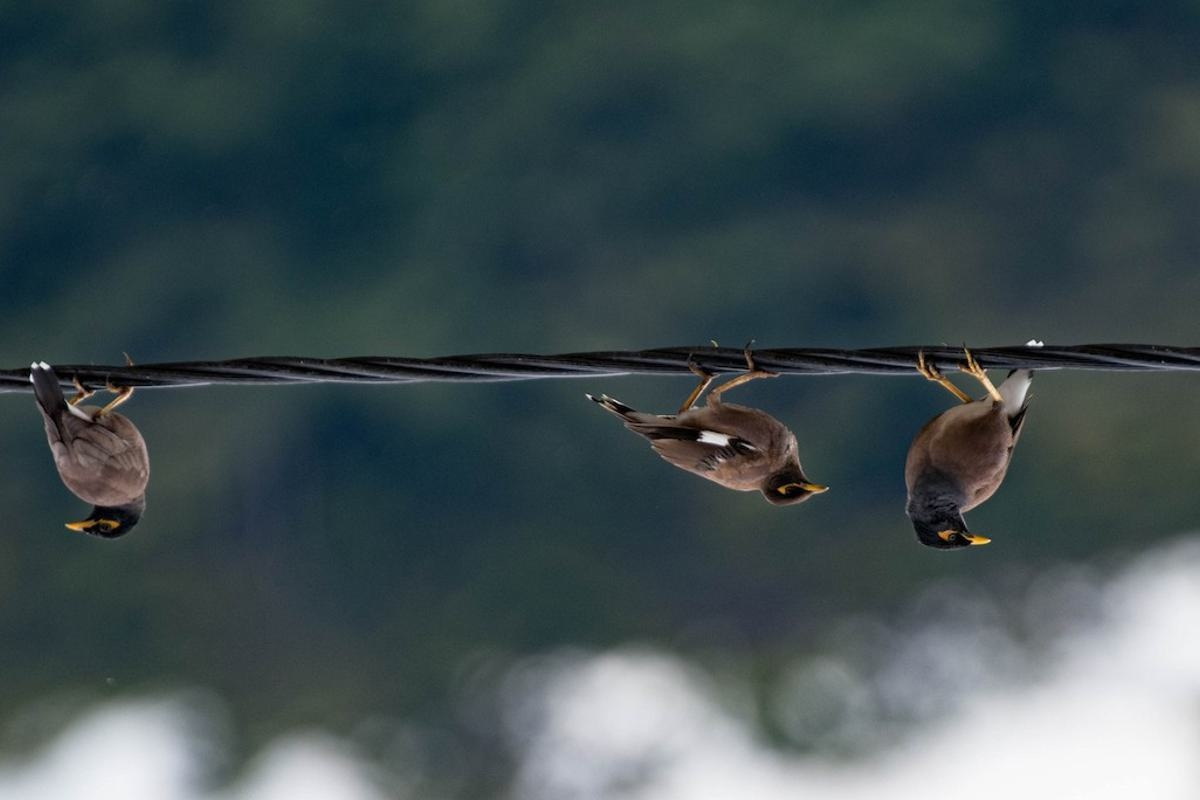myna: (578, 324, 866, 521), (891, 314, 1054, 551), (17, 355, 181, 555)
